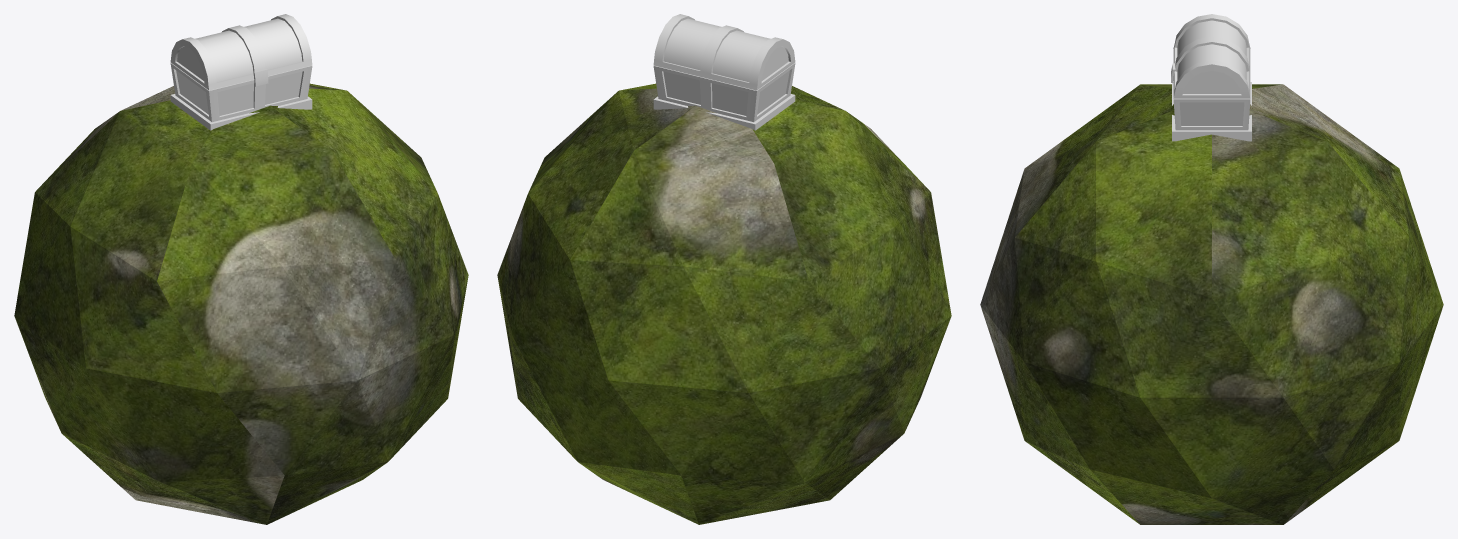
The model's file is arena2.fbx.
3 views of the same model, side by side, from view 1: azimuth 30°, elevation 25°; view 2: azimuth 150°, elevation 25°; view 3: azimuth 270°, elevation 25° (orthographic).
Visible parts, largest first — view 1: Sphere, Low; view 2: Sphere, Low; view 3: Sphere, Low.
Boxes of the visible parts, box(x1,y1,x2,y2) form: Sphere: box(14, 83, 468, 524); Low: box(170, 14, 312, 130); Sphere: box(497, 83, 951, 524); Low: box(653, 14, 795, 130); Sphere: box(980, 84, 1443, 524); Low: box(1171, 14, 1251, 141).
Size of the model in its own units: 1522 by 1811 by 1600.
4 materials, 1 textured.
